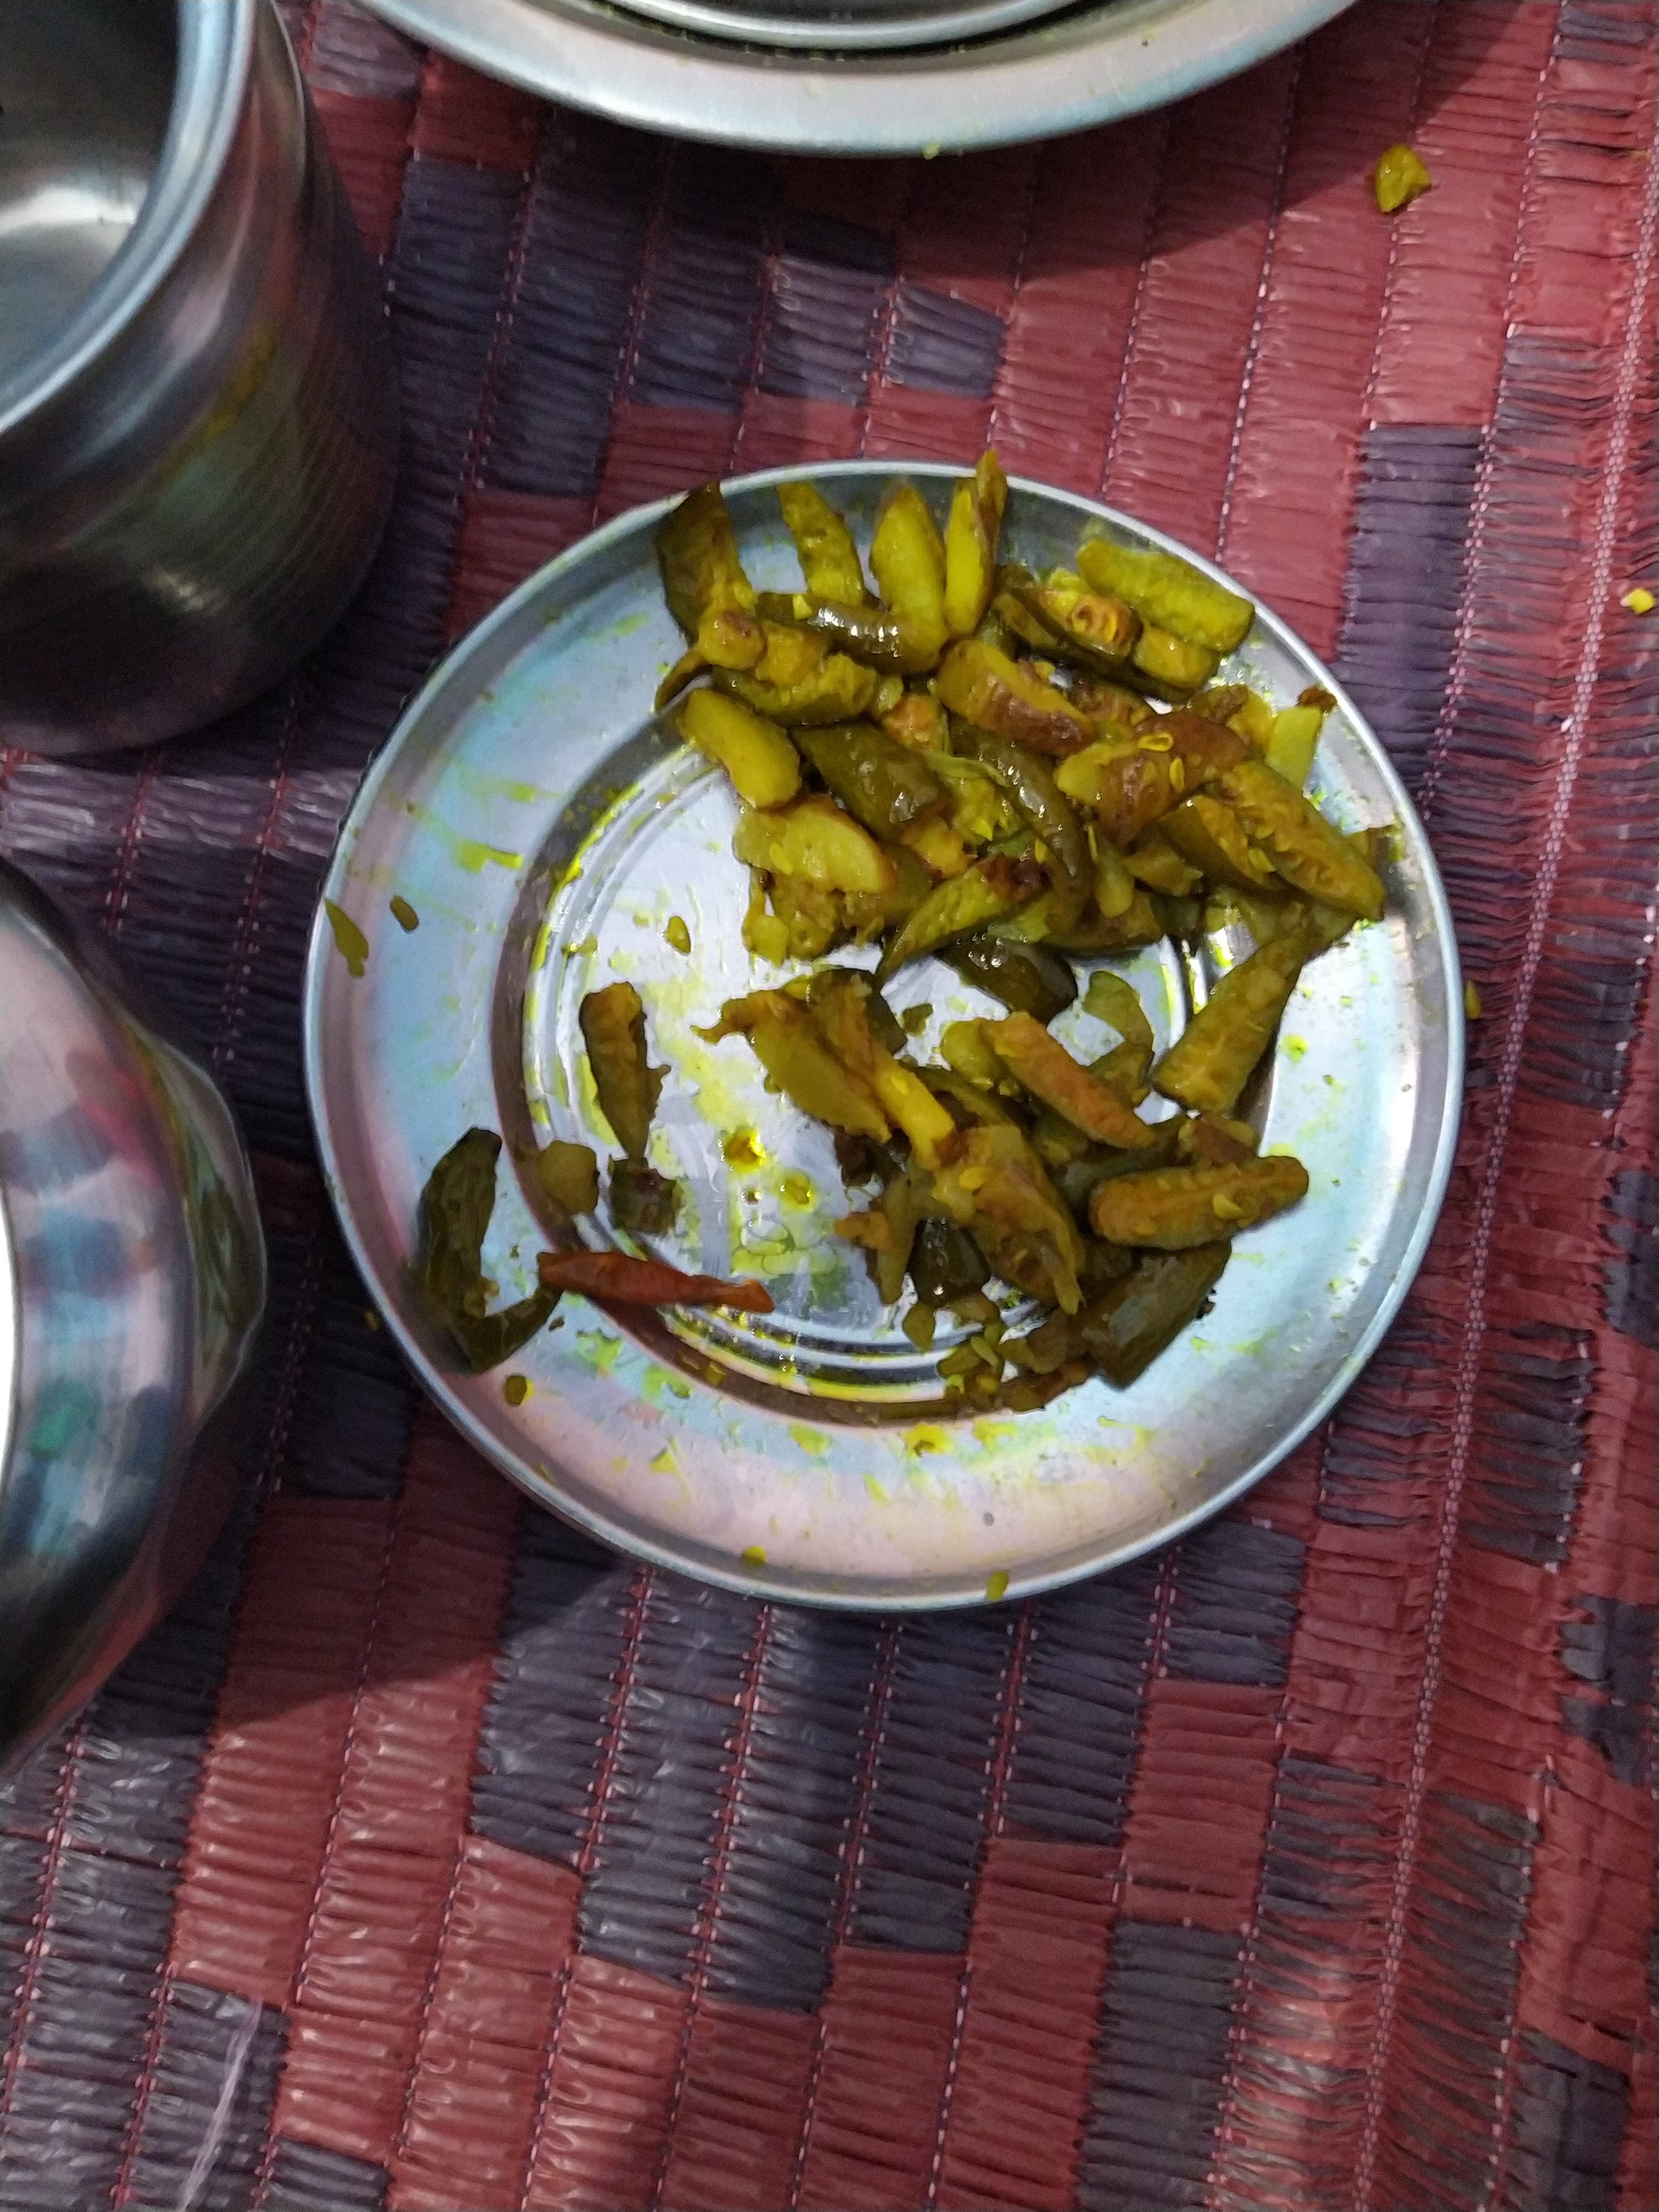food: (403, 441, 1408, 1421)
